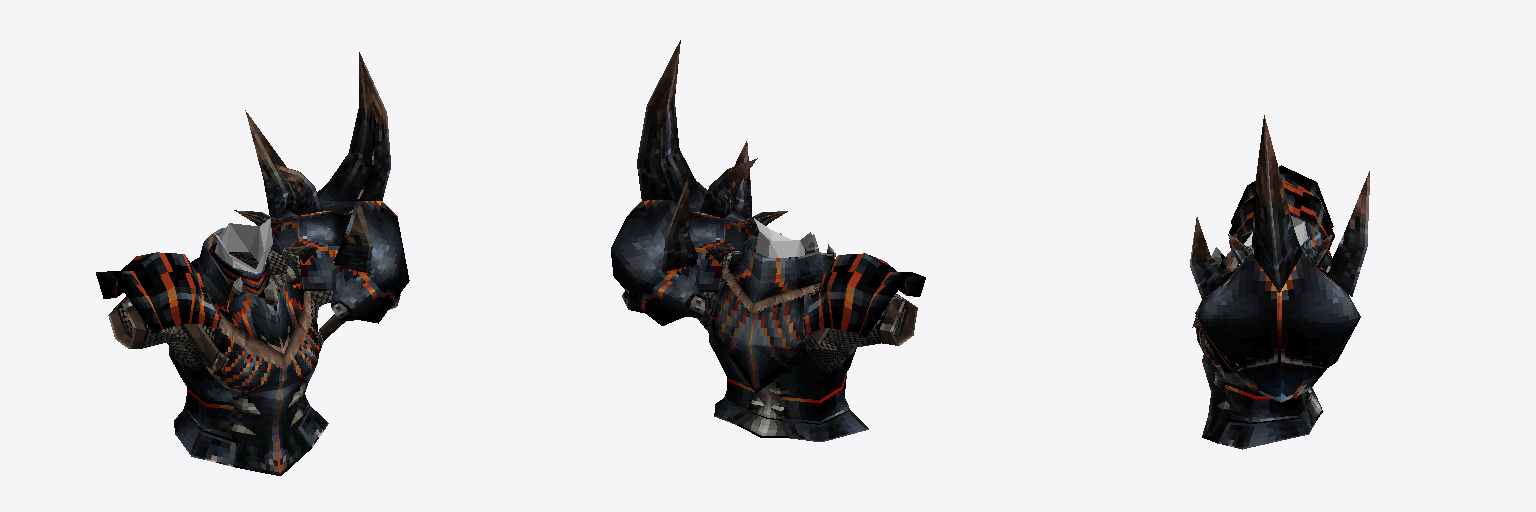
3 views of the same model, side by side, from view 1: azimuth 30°, elevation 25°; view 2: azimuth 150°, elevation 25°; view 3: azimuth 270°, elevation 25° (orthographic).
Visible parts, largest first — view 1: mesh00; view 2: mesh00; view 3: mesh00.
Part boxes in pixels (bbox=[...]): mesh00: bbox=[96, 52, 409, 475]; mesh00: bbox=[611, 40, 925, 441]; mesh00: bbox=[1190, 115, 1369, 449].
Size of the model in its own units: 76.68 by 94.88 by 41.31.
2 materials, 1 textured.